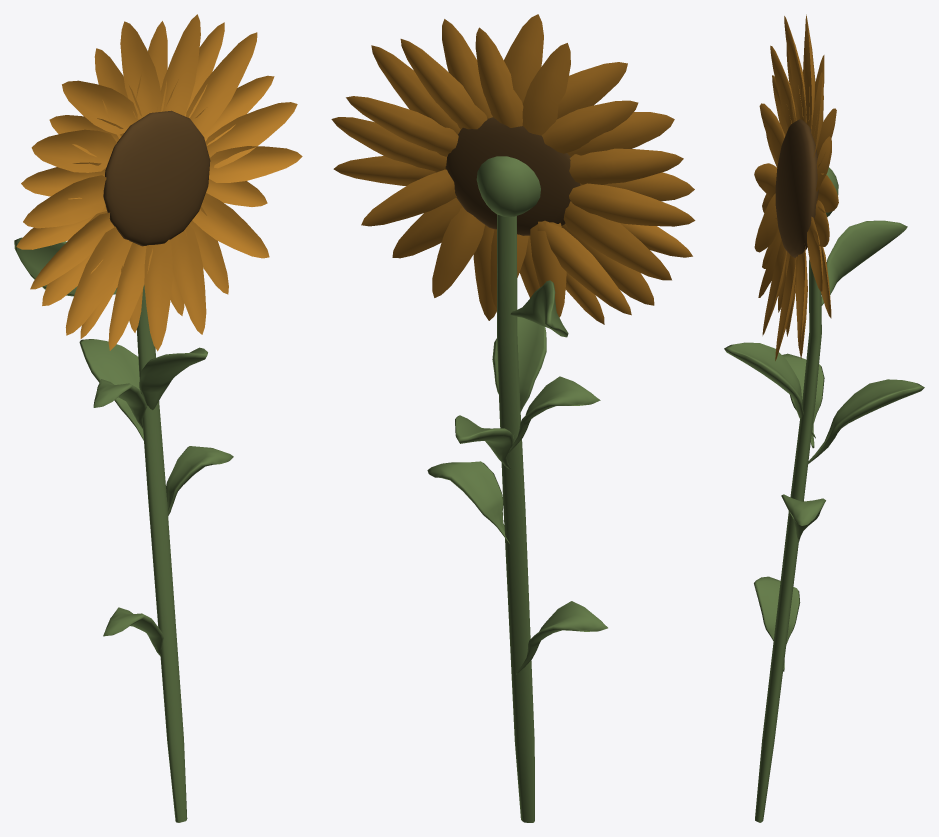
3 views of the same model, side by side, from view 1: azimuth 30°, elevation 25°; view 2: azimuth 150°, elevation 25°; view 3: azimuth 270°, elevation 25° (orthographic). The views are drawn at different scales.
Visible parts, largest first — view 1: polySurface105; view 2: polySurface105; view 3: polySurface105.
Boxes of the visible parts, <box> form: polySurface105: <box>14,14,302,822</box>; polySurface105: <box>331,14,695,822</box>; polySurface105: <box>724,14,924,822</box>.
Bounding box in the file's own units: 2.33 × 5.6 × 1.29.
